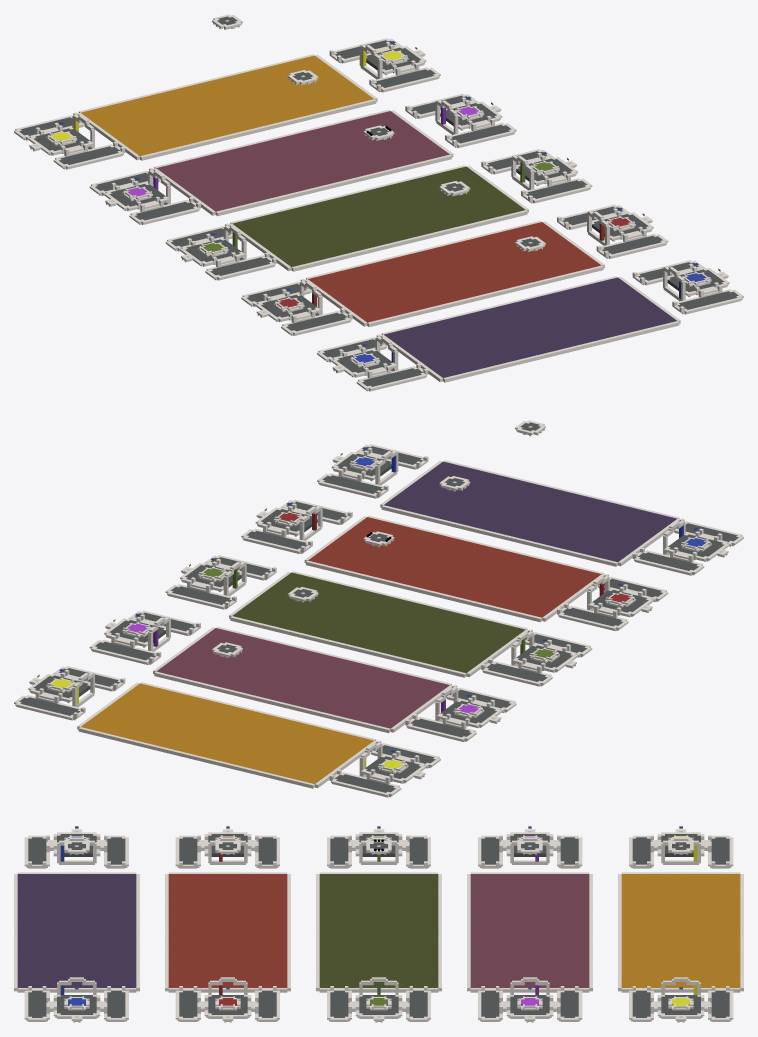
Rendered from minecraft.obj.
3 views of the same model, one above another, from view 1: azimuth 30°, elevation 25°; view 2: azimuth 150°, elevation 25°; view 3: azimuth 270°, elevation 25° (orthographic).
Bounding box in the file's own units: 125 × 27.52 × 203.
